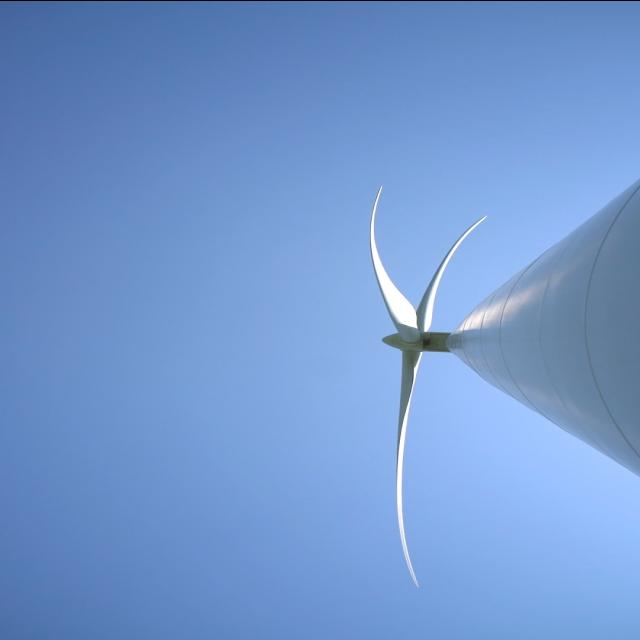blade 1: (350, 373, 412, 625)
blade 2: (366, 138, 414, 314)
blade 3: (422, 203, 486, 279)
